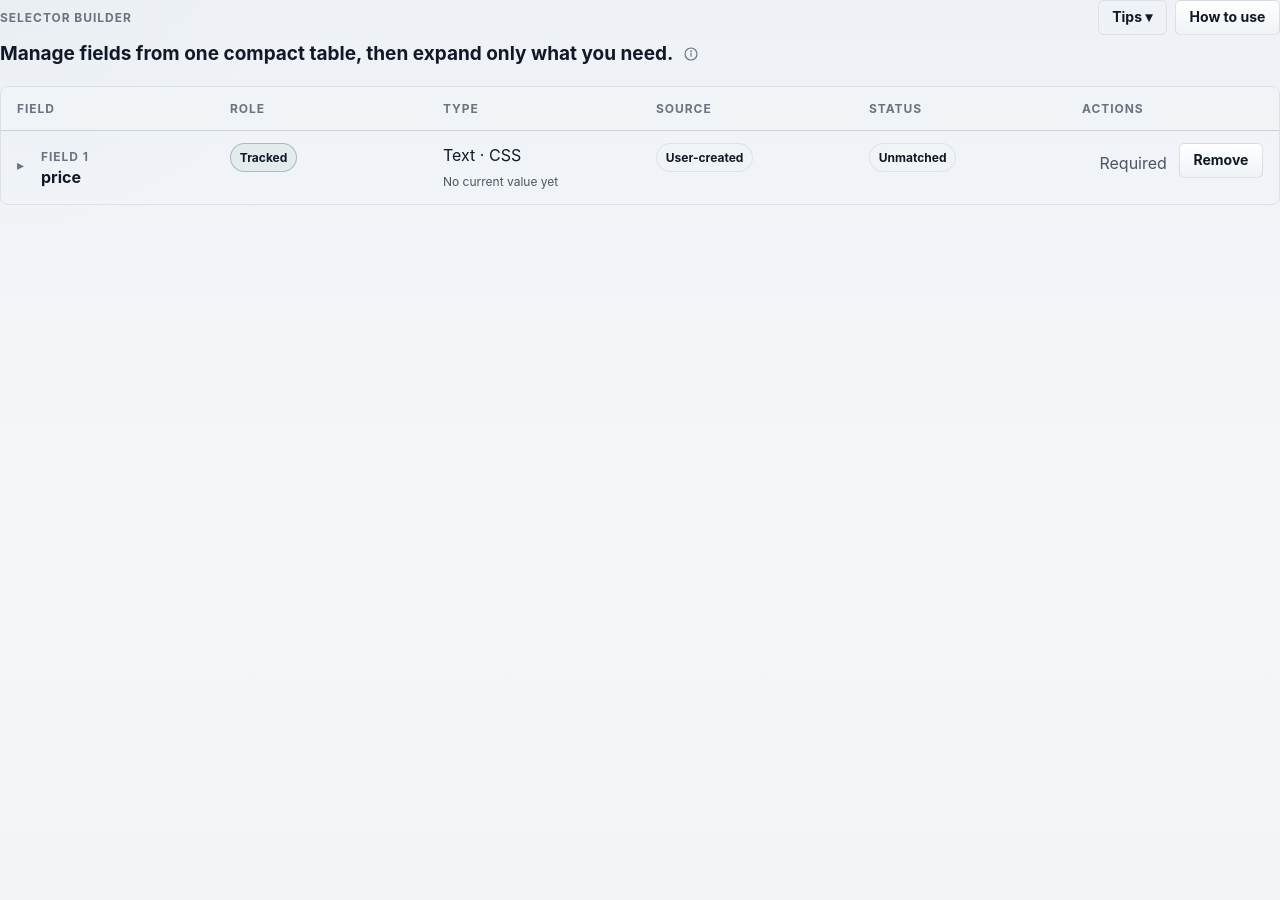
Scenario: SelectorBuilder › closes the help popup
The width and height of the screenshot is (1280, 900).
Click the button "How to use" at {"x": 1228, "y": 17}, box [1175, 0, 1279, 35]
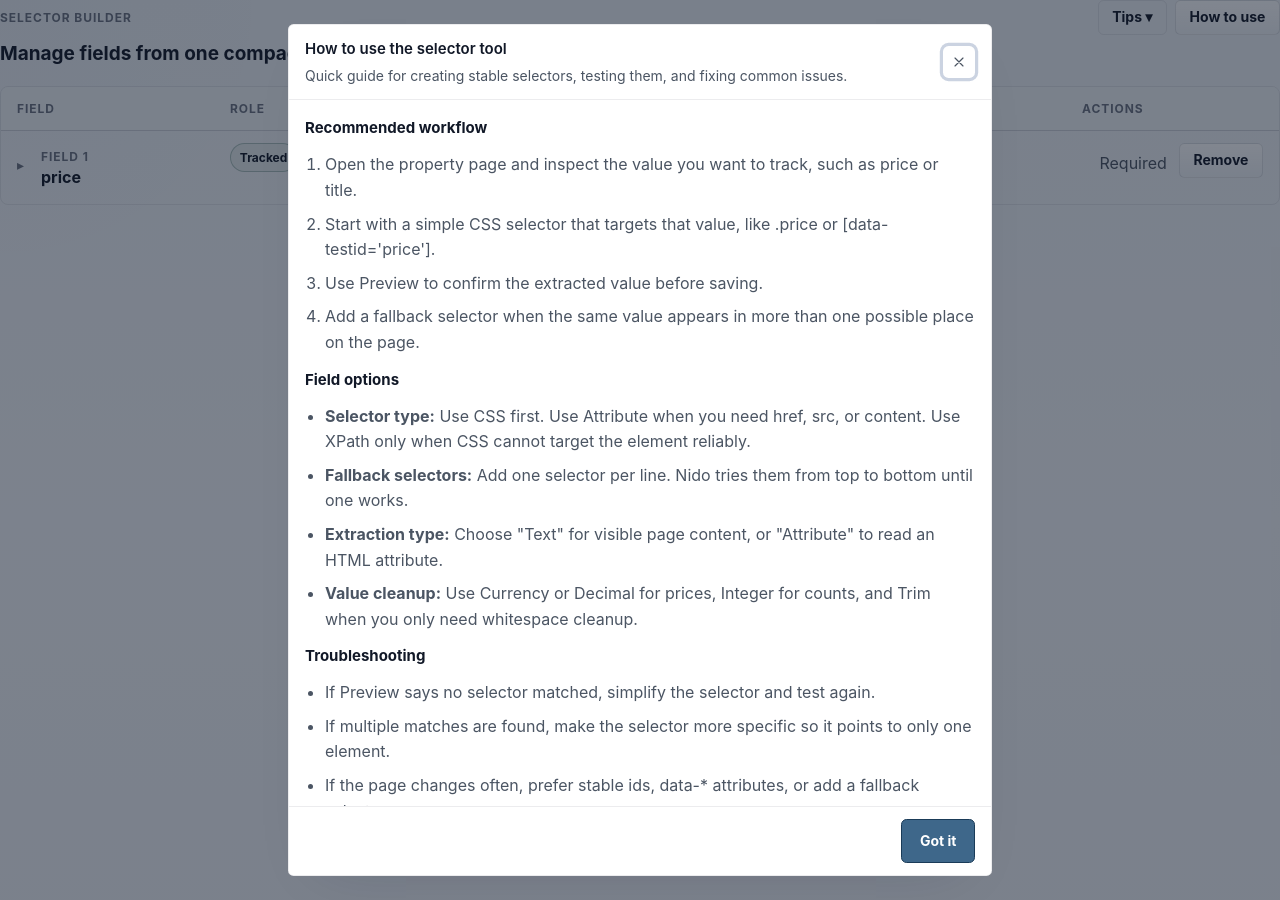
Click the button "Got it" at {"x": 938, "y": 841}, box [901, 819, 975, 863]
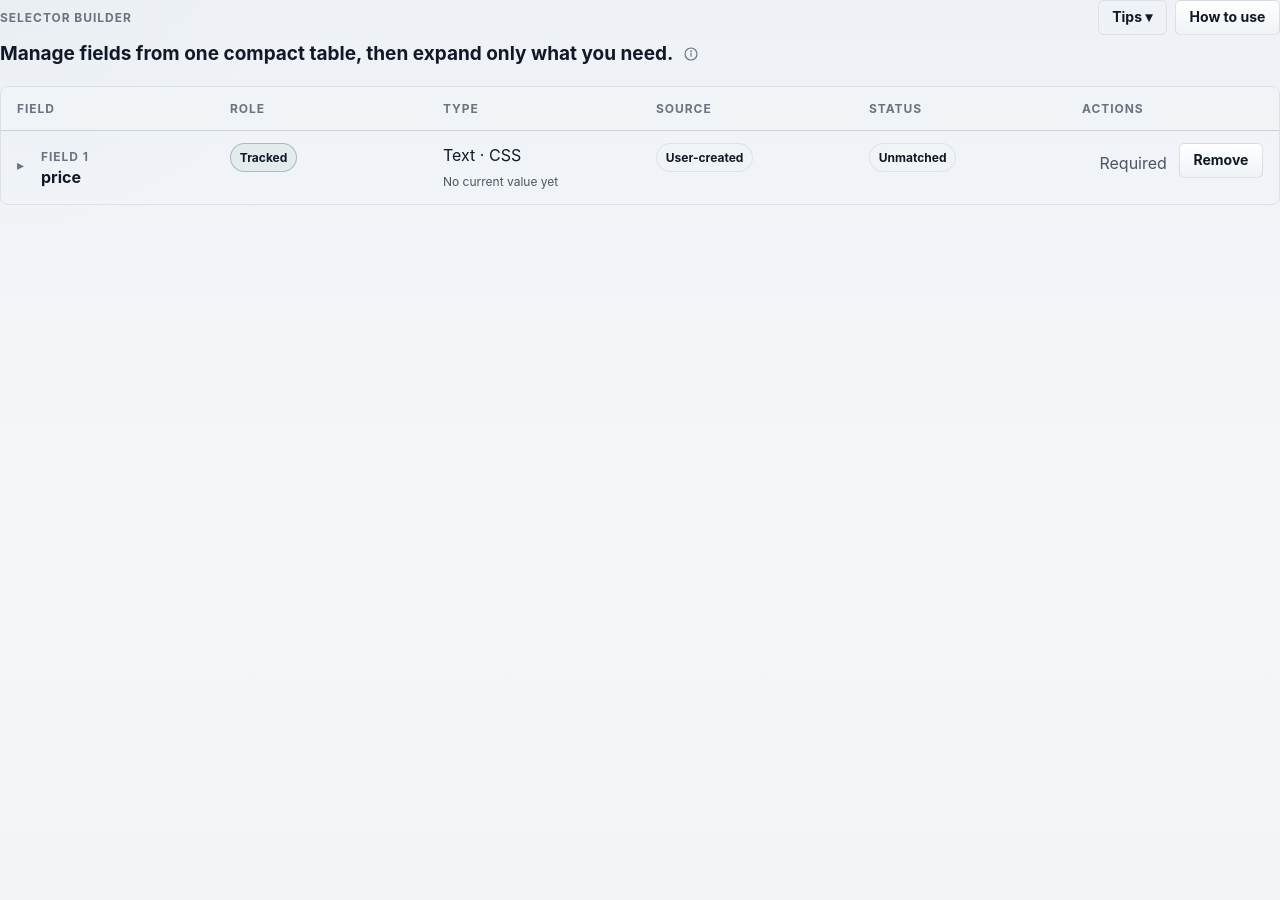
Now the heading "How to use the selector tool" is gone
